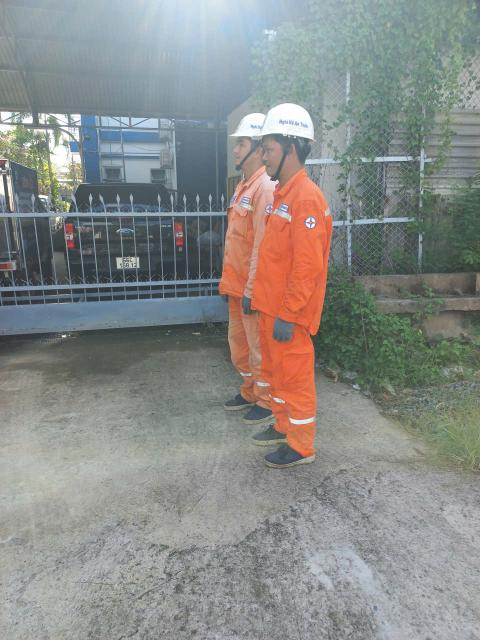gloves: (270, 314, 305, 347), (235, 291, 261, 318), (212, 288, 239, 303)
helmet: (267, 96, 321, 148), (229, 111, 273, 147)
shoes: (255, 437, 321, 475), (218, 386, 268, 411), (250, 420, 293, 448), (233, 404, 280, 428)
